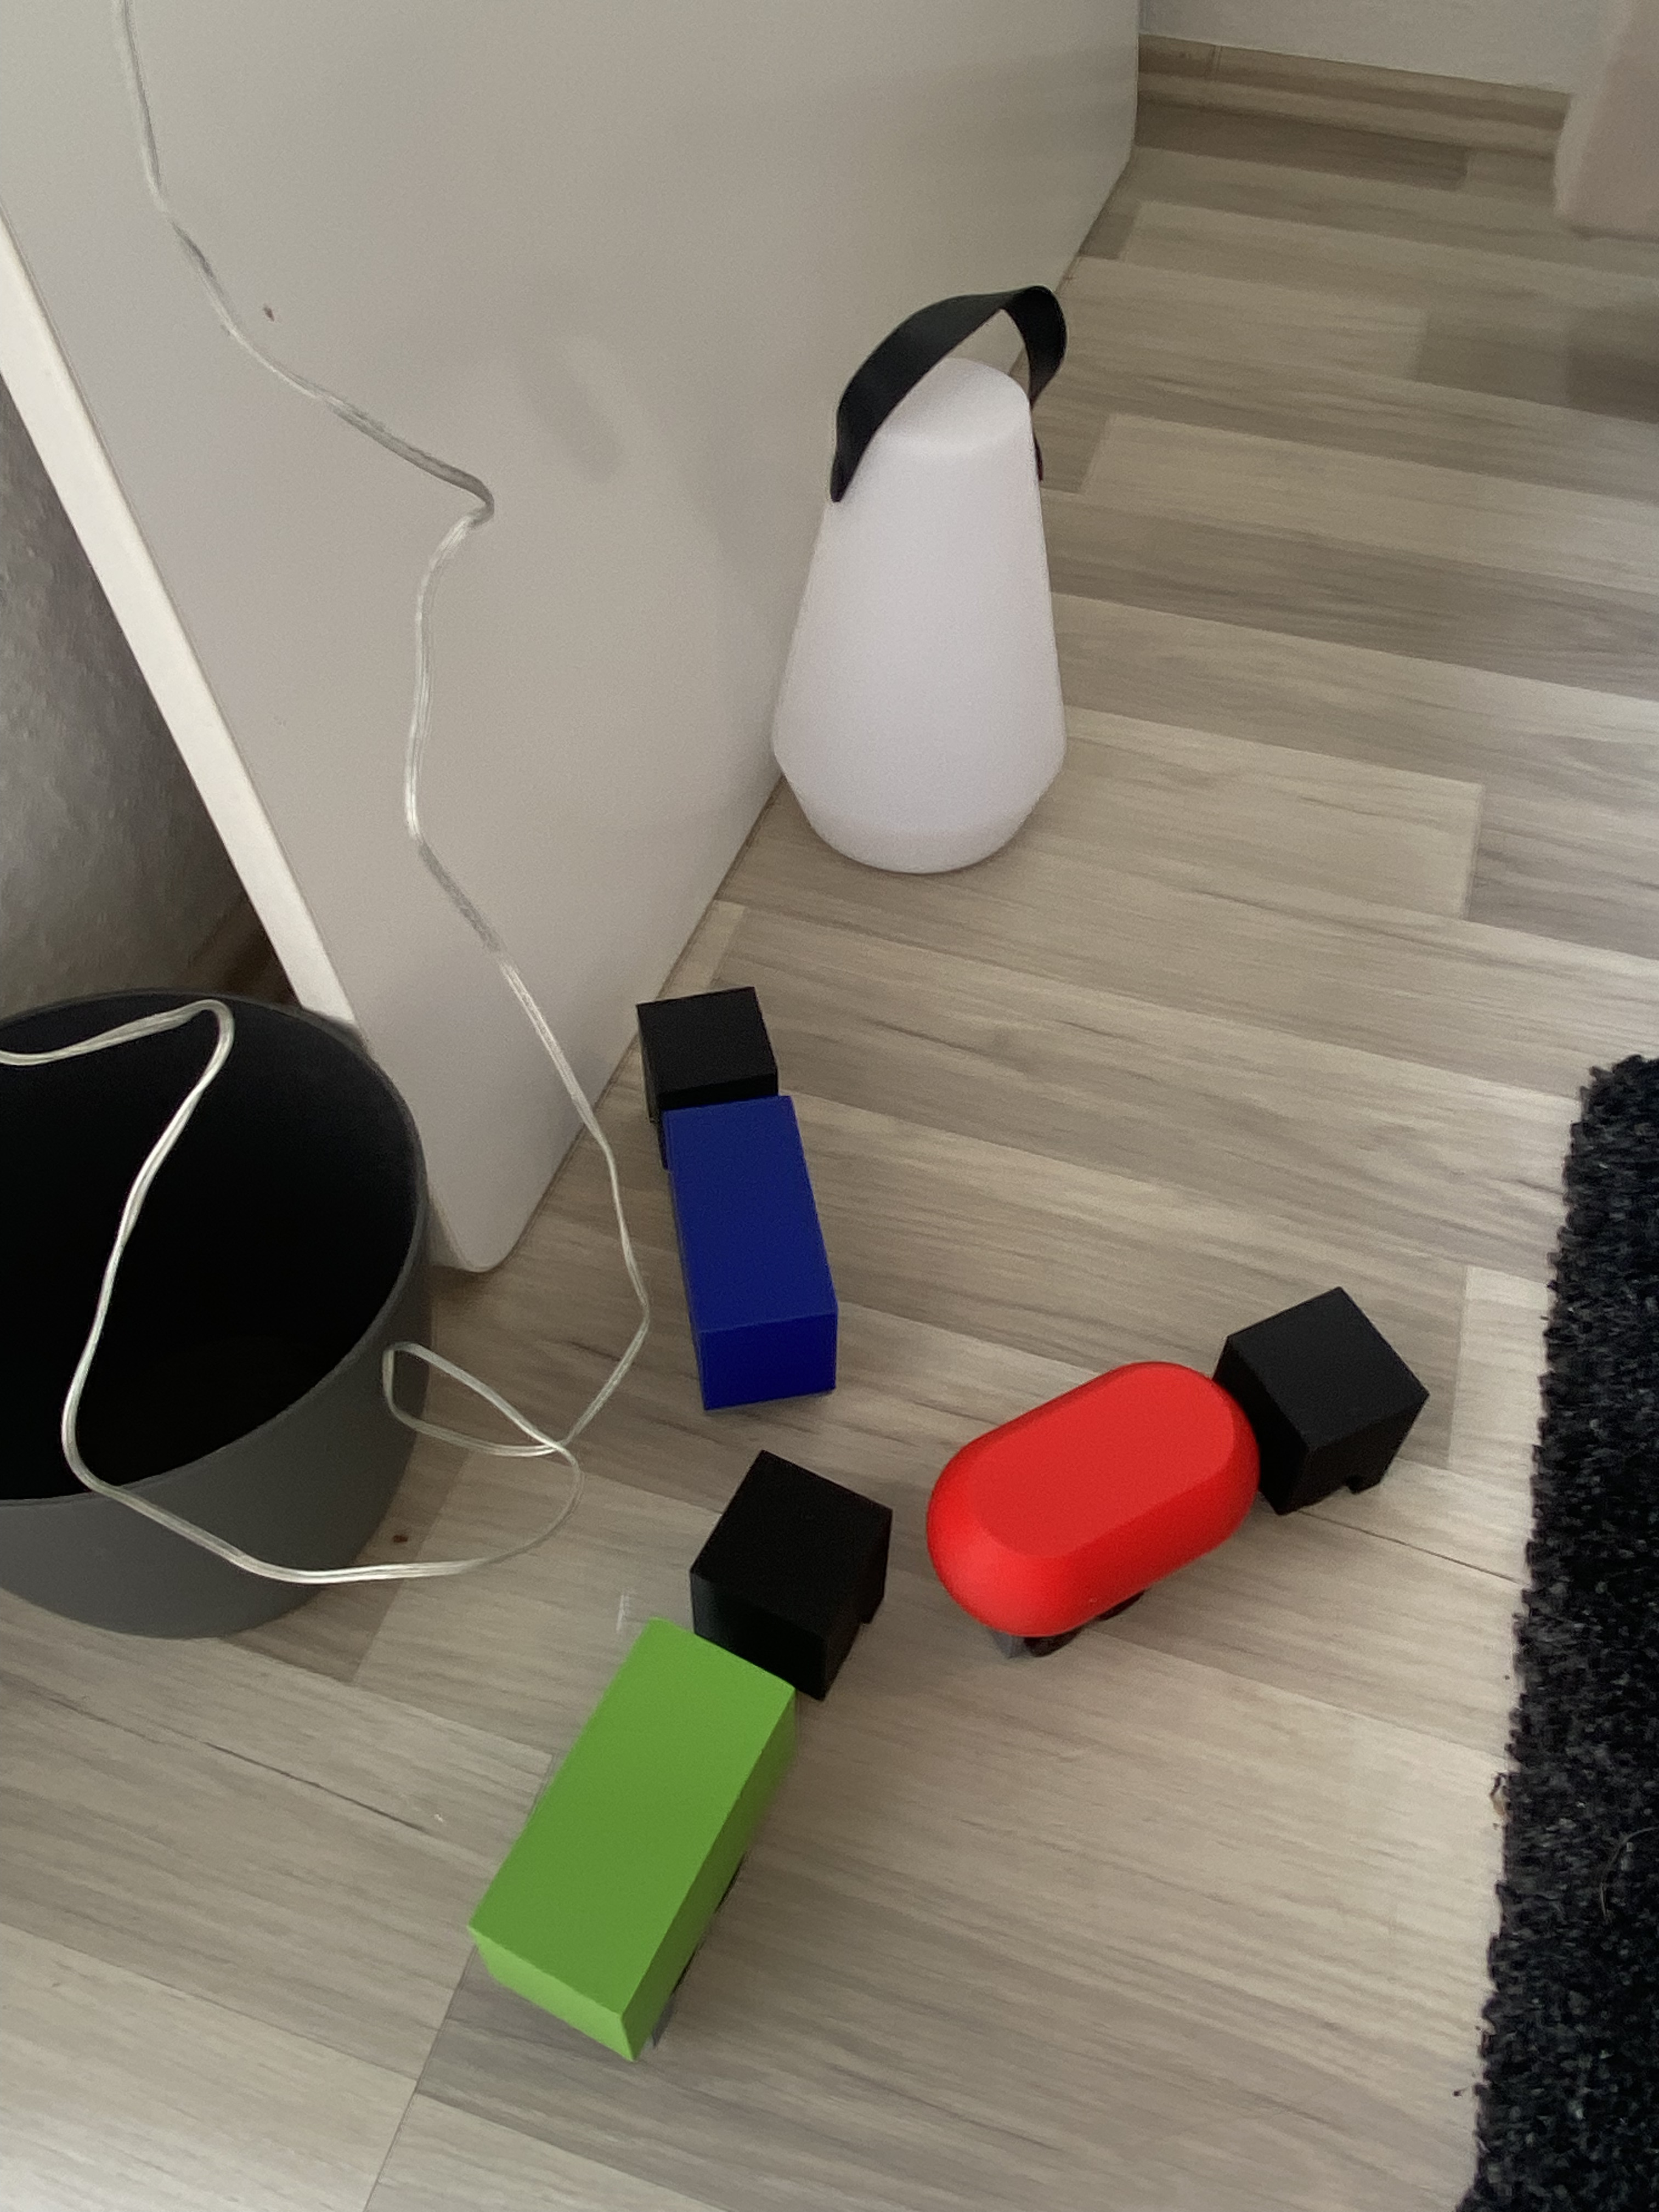blue_truck: (641, 981, 836, 1402)
green_truck: (369, 1639, 1002, 1867)
red_truck: (1063, 1200, 1300, 1726)
